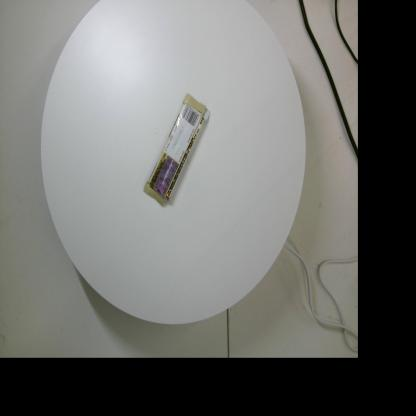Chocolate: (143, 92, 210, 206)
